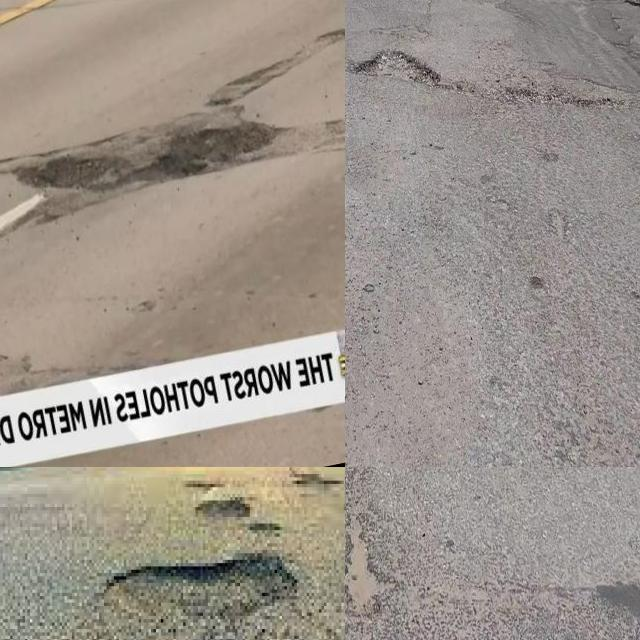Pothole: (0, 53, 317, 228), (0, 107, 284, 191), (107, 557, 294, 619), (207, 28, 345, 106), (352, 43, 441, 86), (345, 514, 380, 612)
